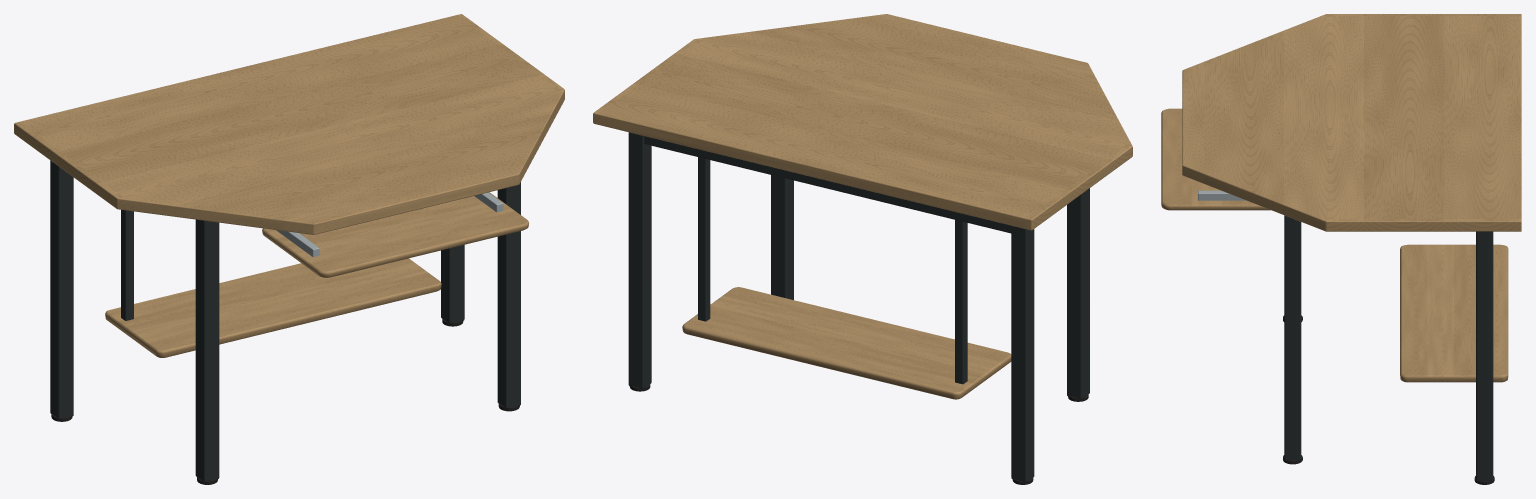
3 renders of one model, left to right at view 1: azimuth 30°, elevation 25°; view 2: azimuth 150°, elevation 25°; view 3: azimuth 270°, elevation 25°, orthographic. The views are drawn at different scales.
Parts seen in each view (by area): view 1: Clipped-corner oak desktop, Lower rear equipment shelf, Extended pull-out keyboard shelf, Corner-desk support leg.002, Corner-desk support leg, Corner-desk support leg.003, Corner-desk support leg.001, Lower shelf support; view 2: Clipped-corner oak desktop, Lower rear equipment shelf, Corner-desk support leg, Corner-desk support leg.001, Corner-desk support leg.002, Rear structural apron, Corner-desk support leg.003, Lower shelf support, Lower shelf support.001; view 3: Clipped-corner oak desktop, Lower rear equipment shelf, Corner-desk support leg.001, Corner-desk support leg.003, Extended pull-out keyboard shelf, Keyboard ball-bearing runner.001.
Part boxes in pixels (box(x1,y1,x2,y2)): Clipped-corner oak desktop: box(14, 14, 564, 234); Lower rear equipment shelf: box(105, 258, 441, 357); Extended pull-out keyboard shelf: box(262, 192, 528, 277); Corner-desk support leg.002: box(195, 219, 219, 482); Corner-desk support leg: box(50, 160, 73, 419); Corner-desk support leg.003: box(497, 182, 520, 408); Corner-desk support leg.001: box(441, 245, 464, 323); Lower shelf support: box(121, 210, 133, 320); Clipped-corner oak desktop: box(593, 14, 1132, 230); Lower rear equipment shelf: box(682, 287, 1011, 399); Corner-desk support leg: box(1011, 225, 1034, 482); Corner-desk support leg.001: box(628, 132, 651, 388); Corner-desk support leg.002: box(1067, 188, 1089, 399); Rear structural apron: box(644, 136, 1011, 233); Corner-desk support leg.003: box(771, 175, 793, 299); Lower shelf support: box(955, 220, 967, 384); Lower shelf support.001: box(698, 157, 710, 321); Clipped-corner oak desktop: box(1182, 14, 1521, 231); Lower rear equipment shelf: box(1400, 244, 1508, 382); Corner-desk support leg.001: box(1476, 231, 1493, 481); Corner-desk support leg.003: box(1284, 215, 1301, 460); Extended pull-out keyboard shelf: box(1161, 108, 1270, 210); Keyboard ball-bearing runner.001: box(1198, 190, 1245, 200).
Size of the model in its own units: 1.23 by 0.754 by 0.9025.
5 materials, 2 textured.
